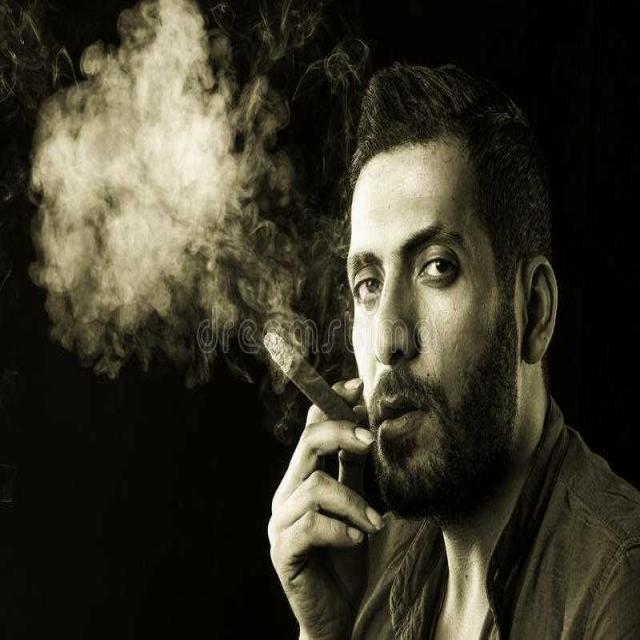Smooking: (258, 316, 363, 431)
